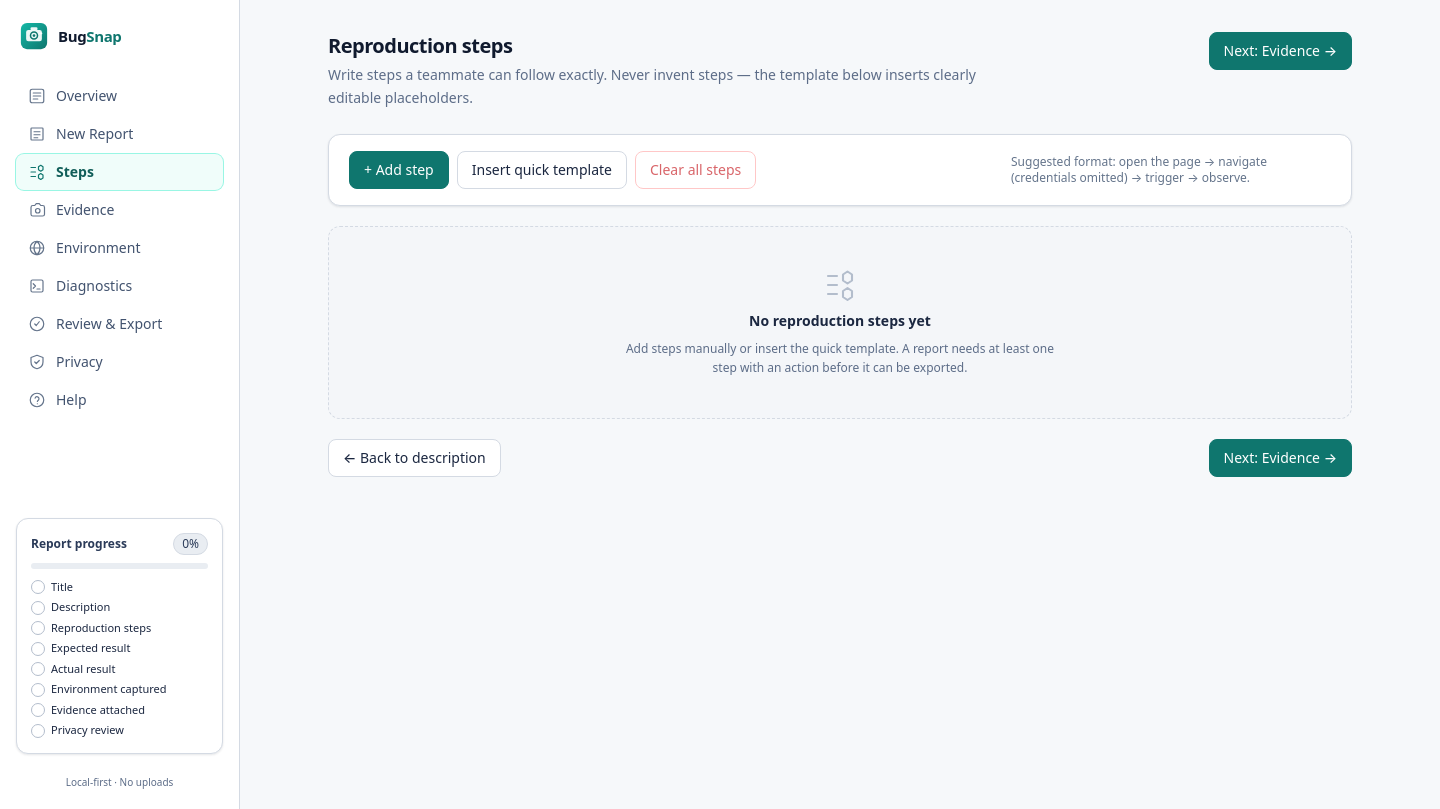
report builder state retention › deletes and duplicates steps with renumbering
Click the link "Steps" at (120, 172), box x1=16 y1=154 x2=223 y2=190
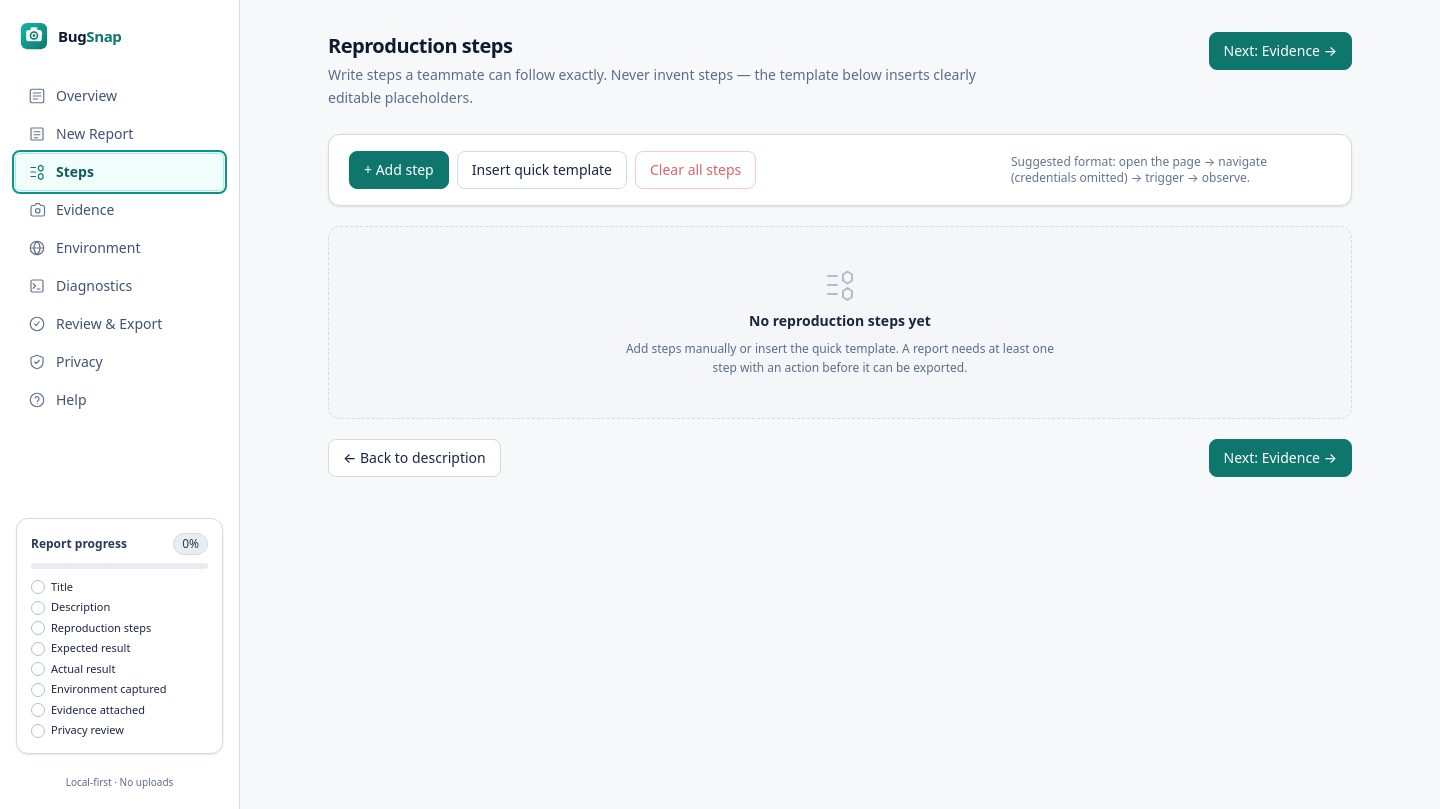
Click the button "Insert quick template" at (542, 170), box x1=457 y1=150 x2=627 y2=188
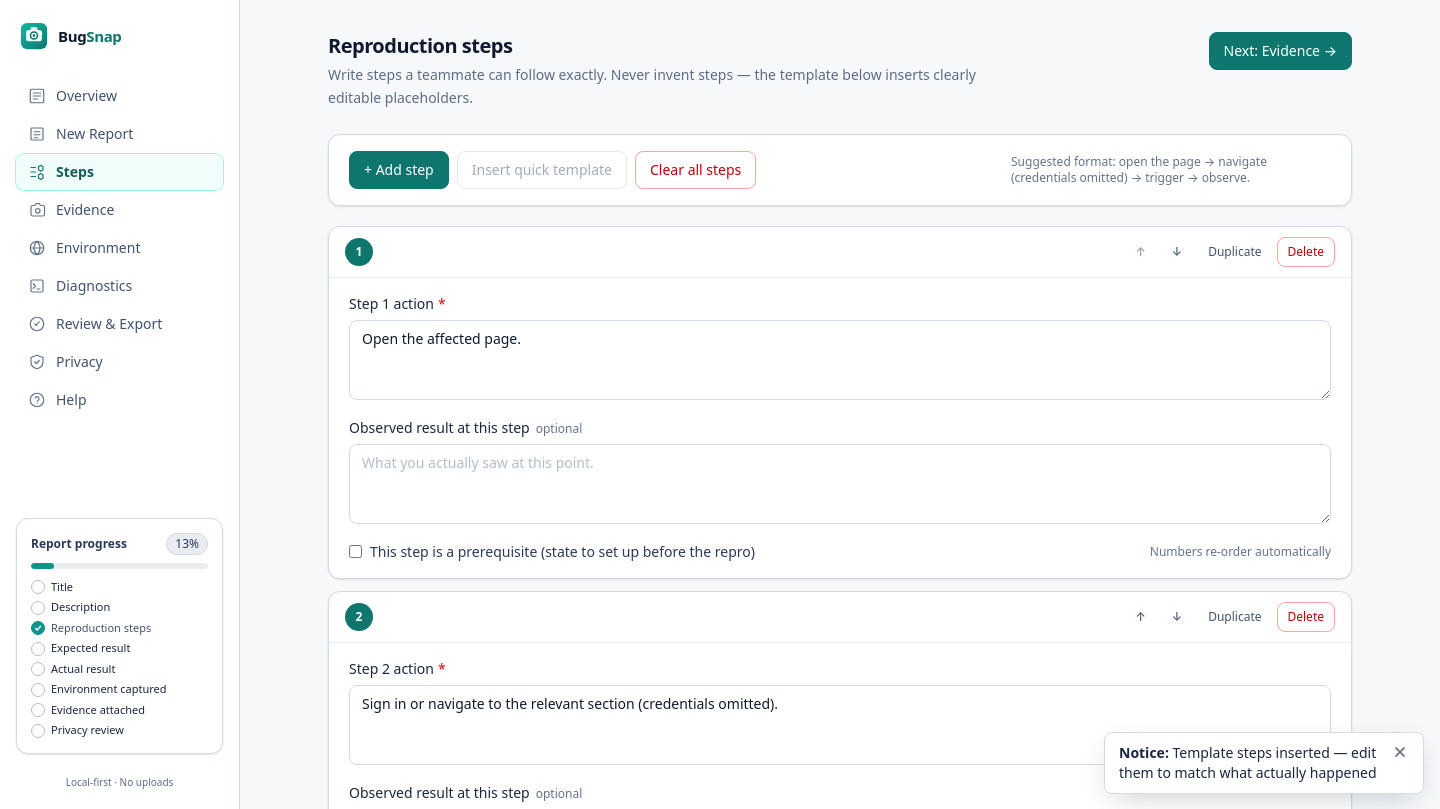
Click the button with aria-label "Duplicate step 2" at (1235, 616), box x1=1197 y1=602 x2=1272 y2=632
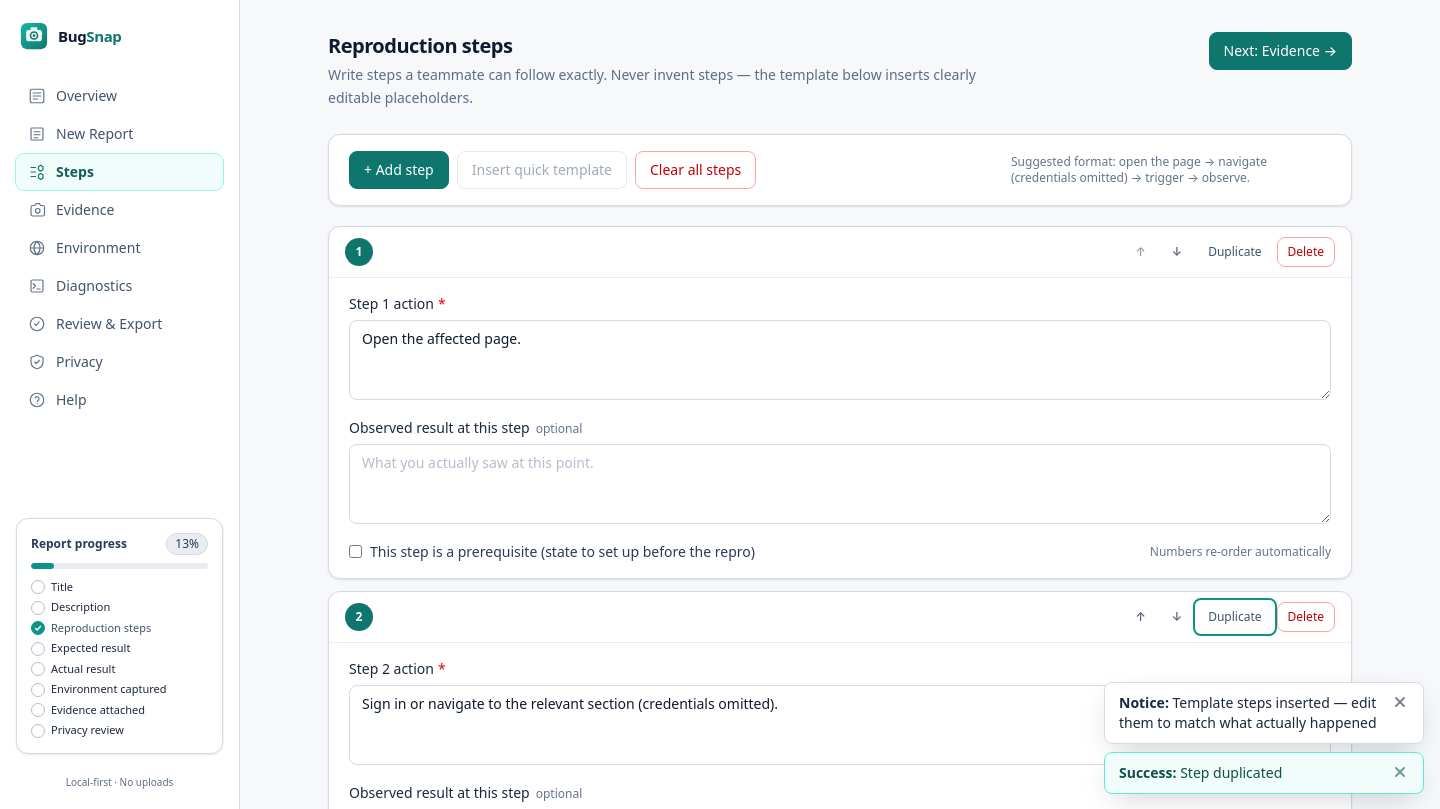
Check: the number of text boxes showing "Sign in or navigate to the relevant section (credentials omitted)." is 2
Click the button with aria-label "Delete step 2" at (1306, 616), box x1=1276 y1=602 x2=1335 y2=632
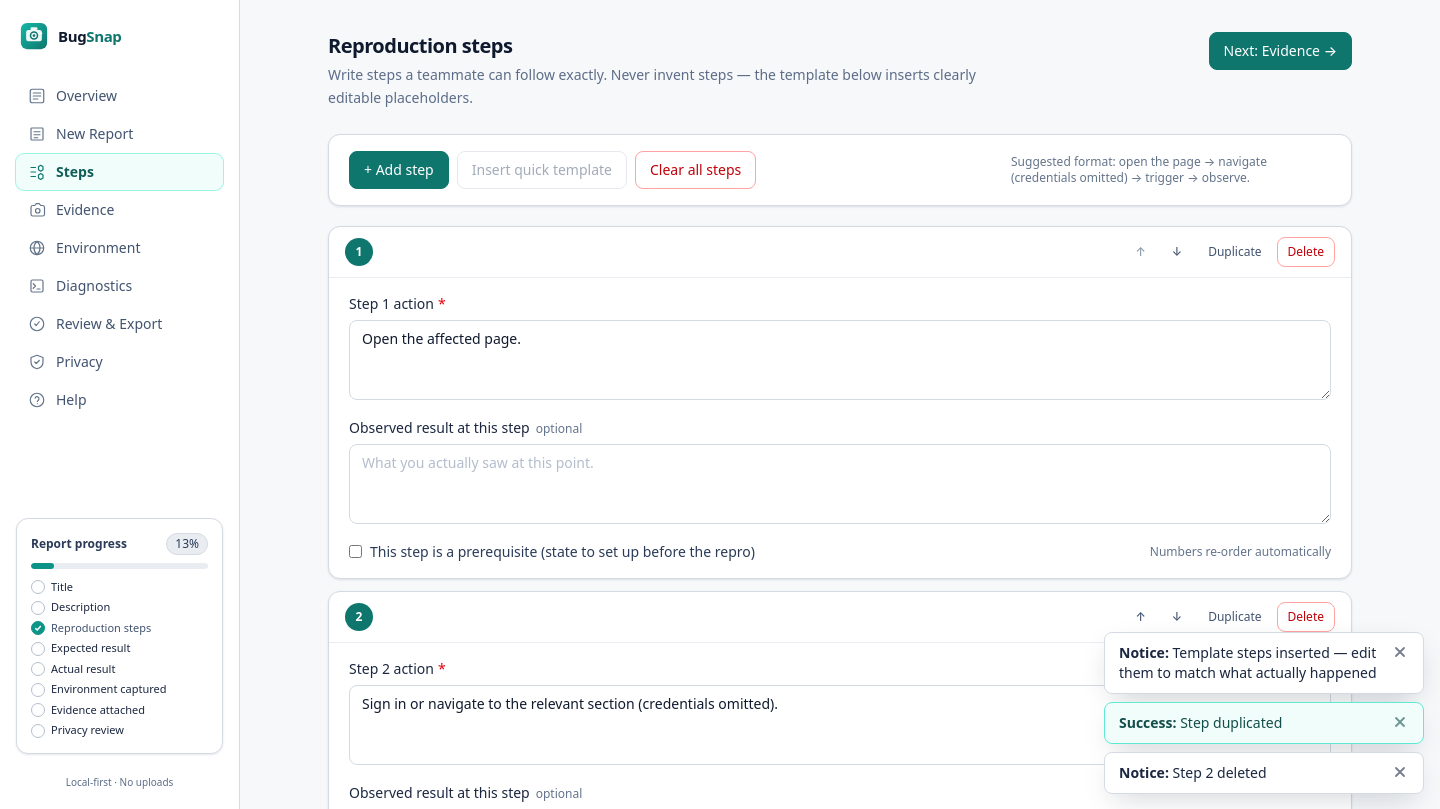
Check: the text "Step 2 action" is shown, box x1=349 y1=658 x2=434 y2=678
Check: the number of text boxes showing "Sign in or navigate to the relevant section (credentials omitted)." is 1, box x1=349 y1=684 x2=1331 y2=764
